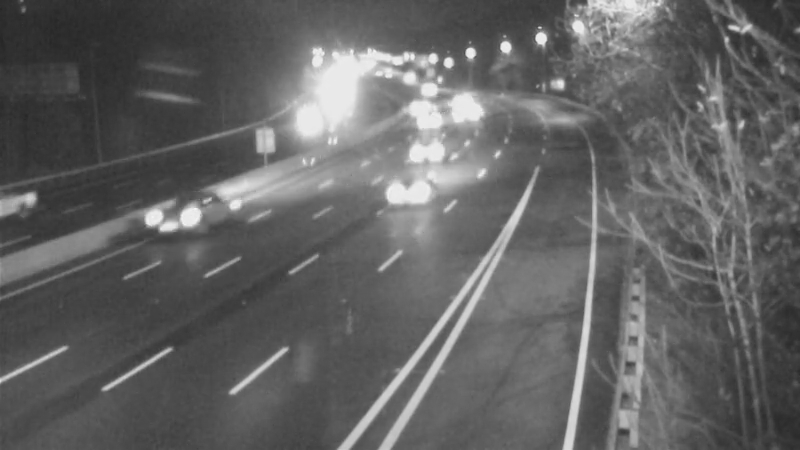vehicle: (374, 155, 454, 235), (122, 176, 202, 256), (395, 76, 445, 126), (437, 86, 487, 136), (404, 93, 454, 143), (390, 125, 440, 175), (283, 93, 333, 143)
